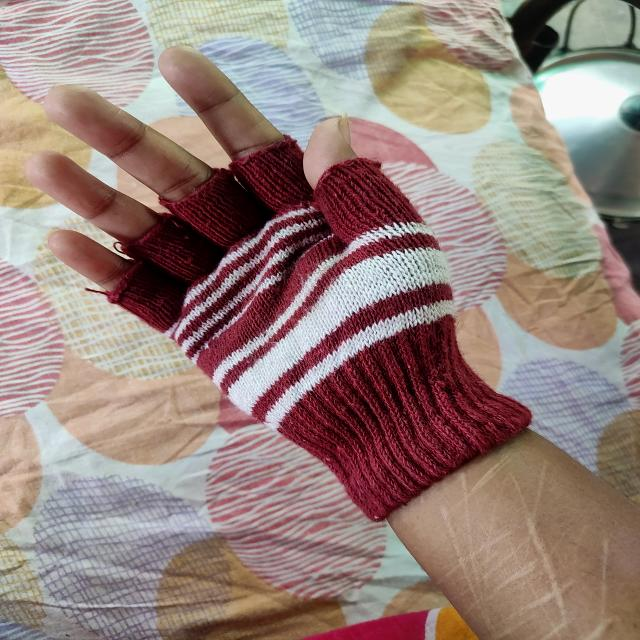glove: (100, 129, 544, 526)
